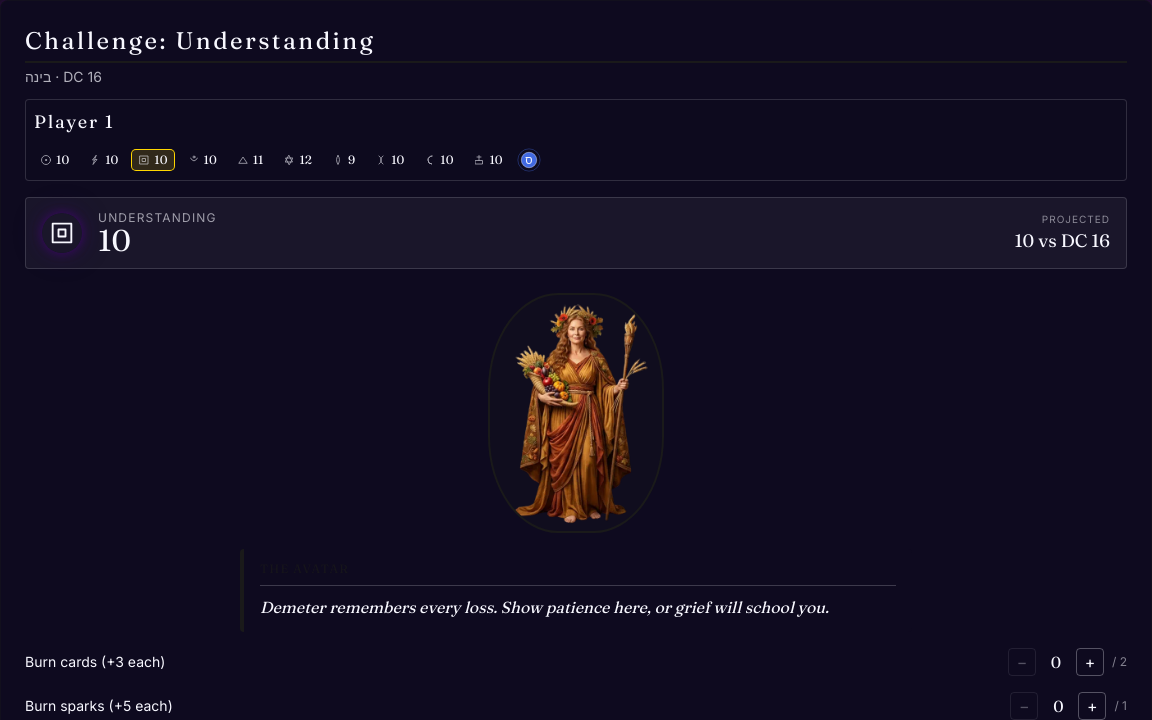
Scenario: EncounterScreen — Binah requires-burn gate › enables Roll after staging at least one card burn
Click the button "+" in the row of "Burn cards (+3 each)": (1090, 662) [1076, 648, 1104, 676]
(page scrolled)
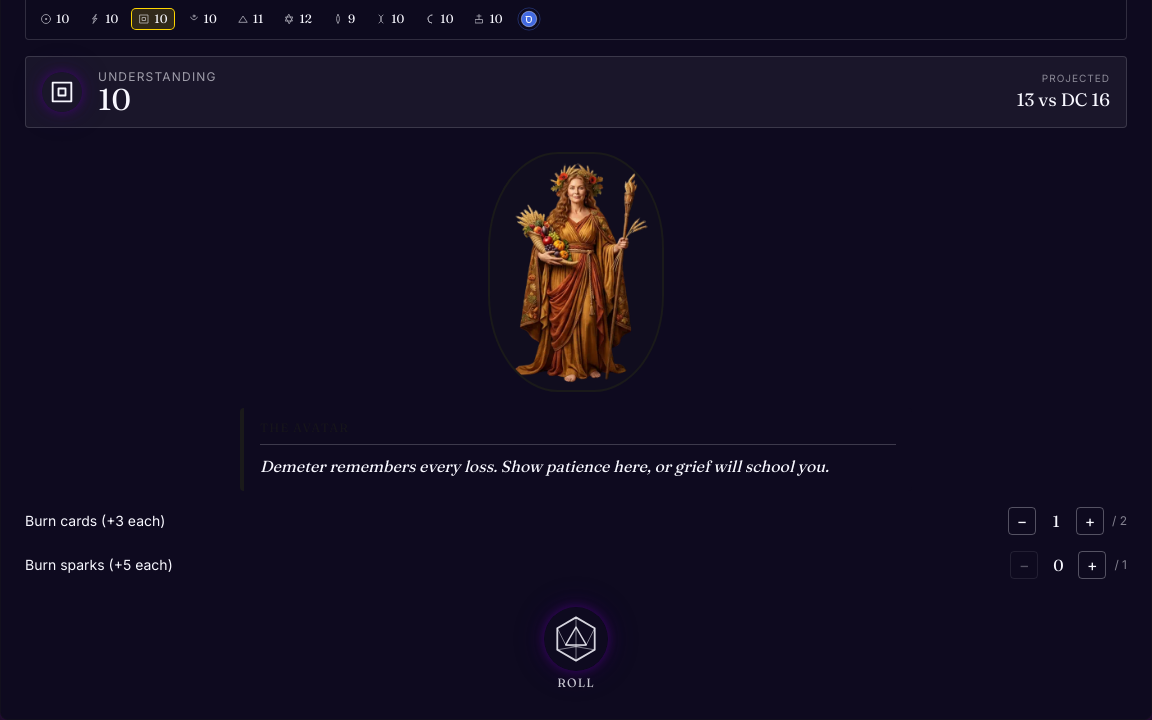
Result: the button "Roll" is enabled at [540, 603, 612, 695]
